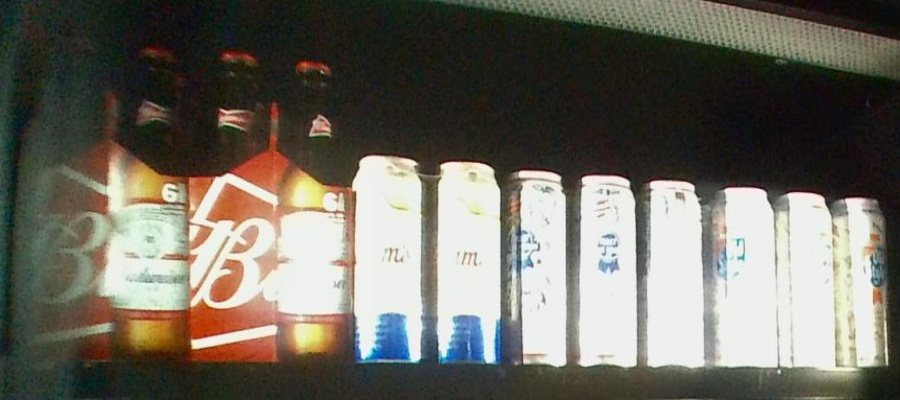bottle: (10, 36, 187, 362), (189, 42, 355, 368), (507, 164, 703, 372), (710, 178, 890, 376), (353, 154, 503, 361)
